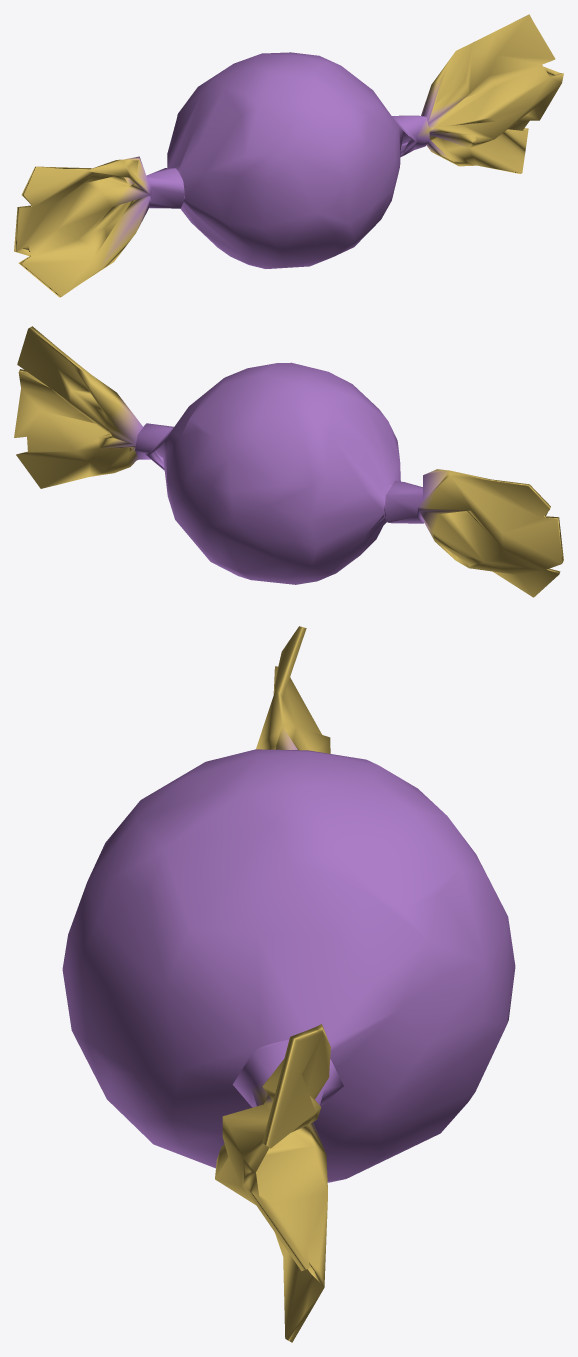
Rendered from wrapped-candy.glb.
3 views of the same model, one above another, from view 1: azimuth 30°, elevation 25°; view 2: azimuth 150°, elevation 25°; view 3: azimuth 270°, elevation 25° (orthographic). The views are drawn at different scales.
Visible parts, largest first — view 1: wrapped-candy; view 2: wrapped-candy; view 3: wrapped-candy.
Part boxes in pixels (x1,y1,x2,y2): wrapped-candy: [14, 14, 563, 297]; wrapped-candy: [14, 326, 563, 597]; wrapped-candy: [62, 626, 515, 1342].
Bounding box in the file's own units: 0.16 × 0.0557 × 0.058.
